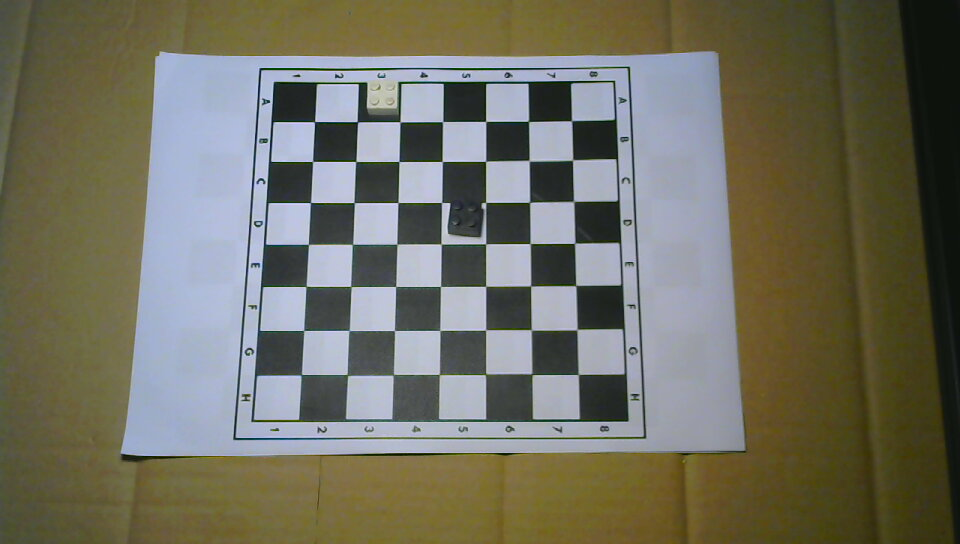bp: (446, 196, 484, 238)
wp: (365, 78, 399, 115)
